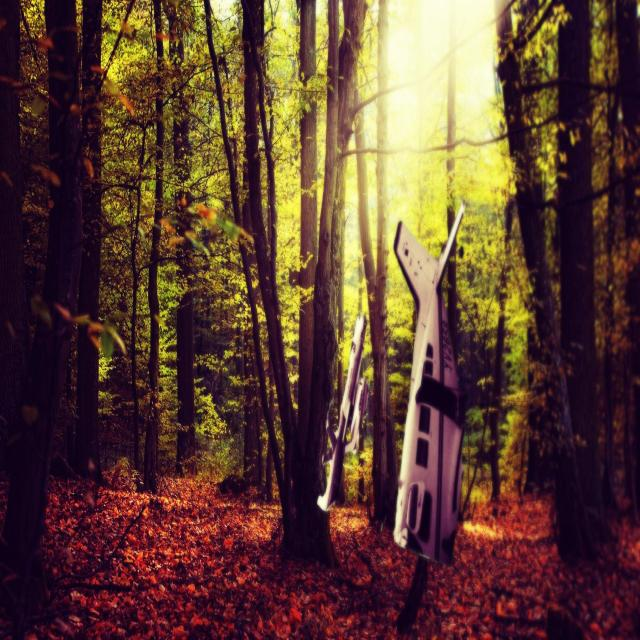airplane: (392, 200, 465, 564), (316, 307, 369, 514)
